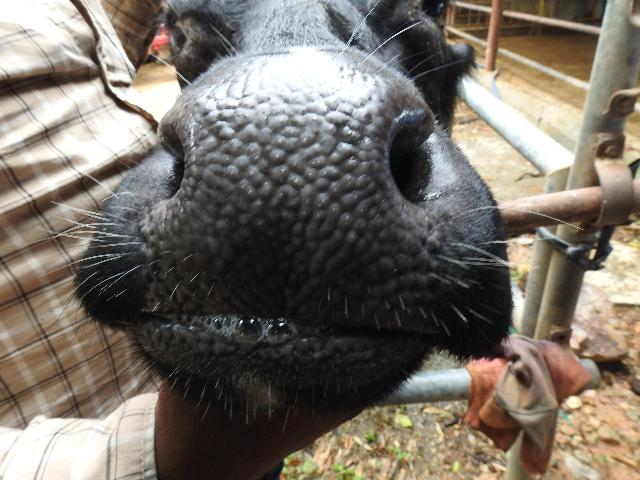Muzzle: (176, 83, 426, 315)
